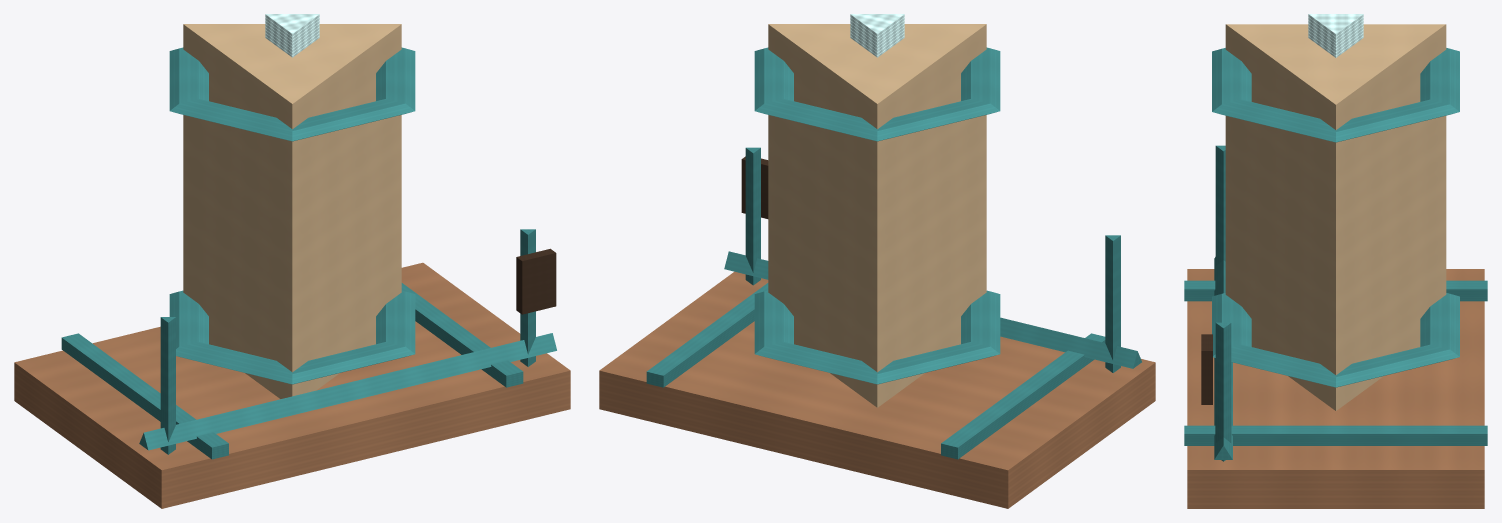
File: atlas100-s094-a02.lod2.glb
The picture shows the model from 3 angles, left to right: view 1: azimuth 30°, elevation 25°; view 2: azimuth 150°, elevation 25°; view 3: azimuth 270°, elevation 25°; orthographic projection.
Parts seen in each view (by area): view 1: atlas100-s094-a02:part-003, atlas100-s094-a02:part-000, atlas100-s094-a02:part-005, atlas100-s094-a02:part-004, atlas100-s094-a02:part-011, atlas100-s094-a02:part-001, atlas100-s094-a02:part-002, atlas100-s094-a02:part-010, atlas100-s094-a02:part-007, atlas100-s094-a02:part-006, atlas100-s094-a02:part-009; view 2: atlas100-s094-a02:part-003, atlas100-s094-a02:part-000, atlas100-s094-a02:part-004, atlas100-s094-a02:part-005, atlas100-s094-a02:part-001, atlas100-s094-a02:part-011, atlas100-s094-a02:part-002, atlas100-s094-a02:part-009, atlas100-s094-a02:part-007, atlas100-s094-a02:part-006, atlas100-s094-a02:part-010; view 3: atlas100-s094-a02:part-003, atlas100-s094-a02:part-000, atlas100-s094-a02:part-005, atlas100-s094-a02:part-004, atlas100-s094-a02:part-002, atlas100-s094-a02:part-009, atlas100-s094-a02:part-006, atlas100-s094-a02:part-001, atlas100-s094-a02:part-007, atlas100-s094-a02:part-011, atlas100-s094-a02:part-010.
Part boxes in pixels (bbox=[...]): atlas100-s094-a02:part-003: bbox=[183, 24, 401, 398]; atlas100-s094-a02:part-000: bbox=[14, 262, 570, 508]; atlas100-s094-a02:part-005: bbox=[169, 47, 415, 141]; atlas100-s094-a02:part-004: bbox=[169, 290, 415, 384]; atlas100-s094-a02:part-011: bbox=[139, 333, 556, 450]; atlas100-s094-a02:part-001: bbox=[61, 333, 228, 459]; atlas100-s094-a02:part-002: bbox=[401, 283, 523, 387]; atlas100-s094-a02:part-010: bbox=[516, 248, 556, 314]; atlas100-s094-a02:part-007: bbox=[160, 317, 175, 454]; atlas100-s094-a02:part-006: bbox=[265, 14, 319, 57]; atlas100-s094-a02:part-009: bbox=[520, 229, 535, 366]; atlas100-s094-a02:part-003: bbox=[768, 24, 986, 407]; atlas100-s094-a02:part-000: bbox=[599, 271, 1155, 508]; atlas100-s094-a02:part-004: bbox=[754, 290, 1000, 384]; atlas100-s094-a02:part-005: bbox=[754, 47, 1000, 141]; atlas100-s094-a02:part-001: bbox=[941, 333, 1105, 459]; atlas100-s094-a02:part-011: bbox=[724, 251, 1141, 368]; atlas100-s094-a02:part-002: bbox=[646, 283, 768, 387]; atlas100-s094-a02:part-009: bbox=[745, 147, 760, 285]; atlas100-s094-a02:part-007: bbox=[1105, 235, 1120, 372]; atlas100-s094-a02:part-006: bbox=[850, 14, 904, 57]; atlas100-s094-a02:part-010: bbox=[741, 156, 768, 218]; atlas100-s094-a02:part-003: bbox=[1225, 24, 1446, 410]; atlas100-s094-a02:part-000: bbox=[1187, 269, 1484, 508]; atlas100-s094-a02:part-005: bbox=[1212, 48, 1459, 142]; atlas100-s094-a02:part-004: bbox=[1212, 293, 1459, 387]; atlas100-s094-a02:part-002: bbox=[1184, 425, 1487, 445]; atlas100-s094-a02:part-009: bbox=[1215, 322, 1231, 461]; atlas100-s094-a02:part-006: bbox=[1308, 14, 1363, 57]; atlas100-s094-a02:part-001: bbox=[1184, 280, 1487, 301]; atlas100-s094-a02:part-007: bbox=[1215, 145, 1225, 266]; atlas100-s094-a02:part-011: bbox=[1214, 257, 1232, 459]; atlas100-s094-a02:part-010: bbox=[1201, 334, 1212, 404].
Bounding box in the file's own units: 2.88 × 2.59 × 1.84.
5 materials, 5 textured.
